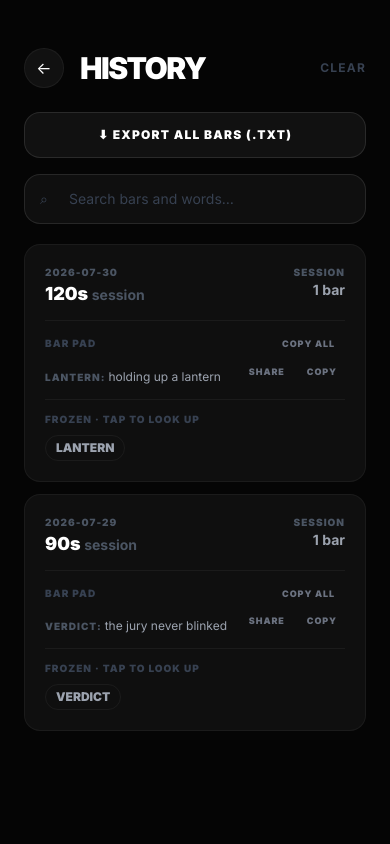
History search › matches on bar text, hiding sessions that do not
Type "jury" into the search field named "Search session history" at (195, 199), box [24,174,366,224]
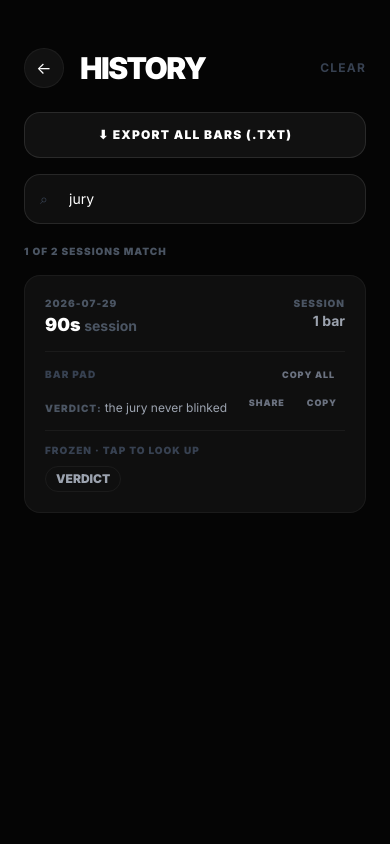
Expected: the text "the jury never blinked" is shown, [105,400,227,414]
Expected: the text "1 of 2 sessions match" is shown, [24,245,167,257]
Expected: the text "holding up a lantern" is gone
